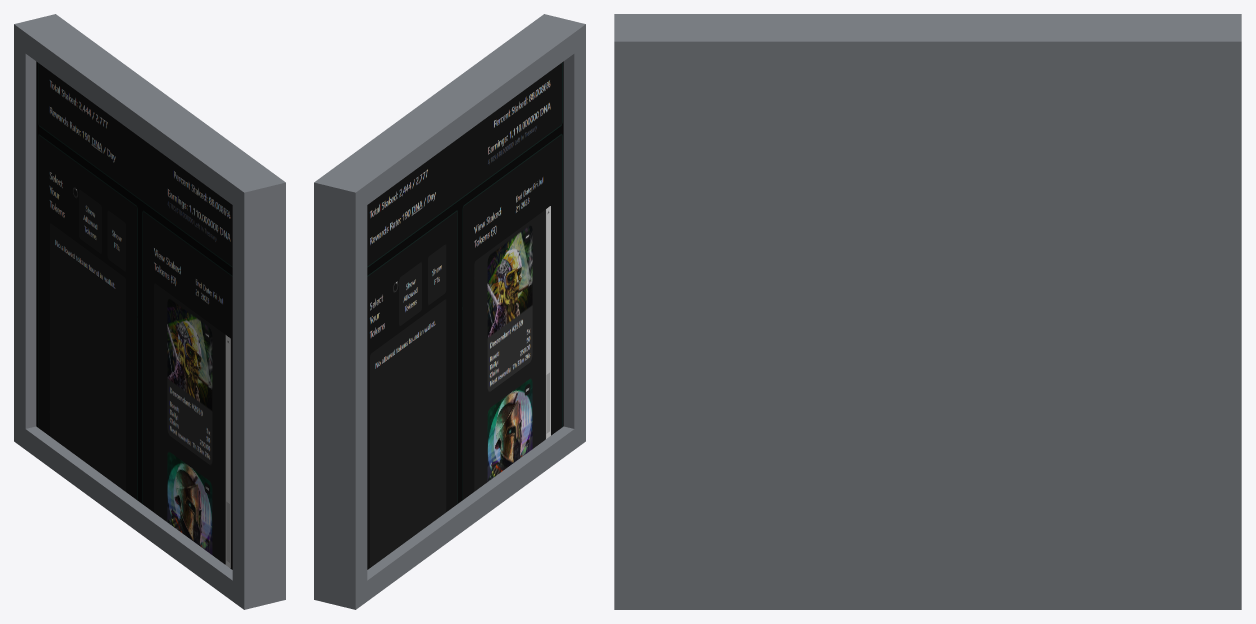
The model's file is staking.glb.
3 renders of one model, left to right at view 1: azimuth 30°, elevation 25°; view 2: azimuth 150°, elevation 25°; view 3: azimuth 270°, elevation 25°, orthographic. The views are drawn at different scales.
Parts seen in each view (by area): view 1: NFTFrame15.001; view 2: NFTFrame15.001; view 3: NFTFrame15.001.
Boxes of the visible parts, x1=… form: NFTFrame15.001: x1=14, y1=14, x2=285, y2=609; NFTFrame15.001: x1=314, y1=14, x2=585, y2=609; NFTFrame15.001: x1=614, y1=14, x2=1241, y2=609.
Bounding box in the file's own units: 0.0471 × 0.45 × 0.45.
2 materials, 1 textured.
